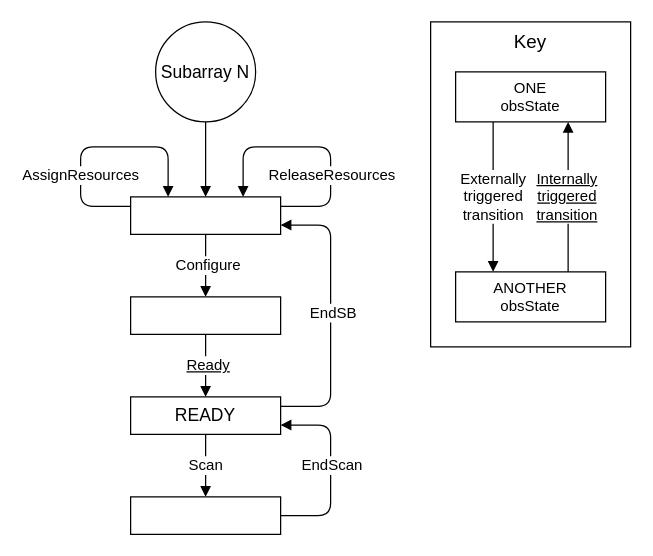
Image size: 653x556. Some labels were removed from this diagram. The shapes that lost their labels are listed below. From the top down, each one's centre as x and y in pixels, then its label:
the point at 205,215: IDLE
the point at 205,315: CONFIGURING
the point at 205,515: SCANNING
